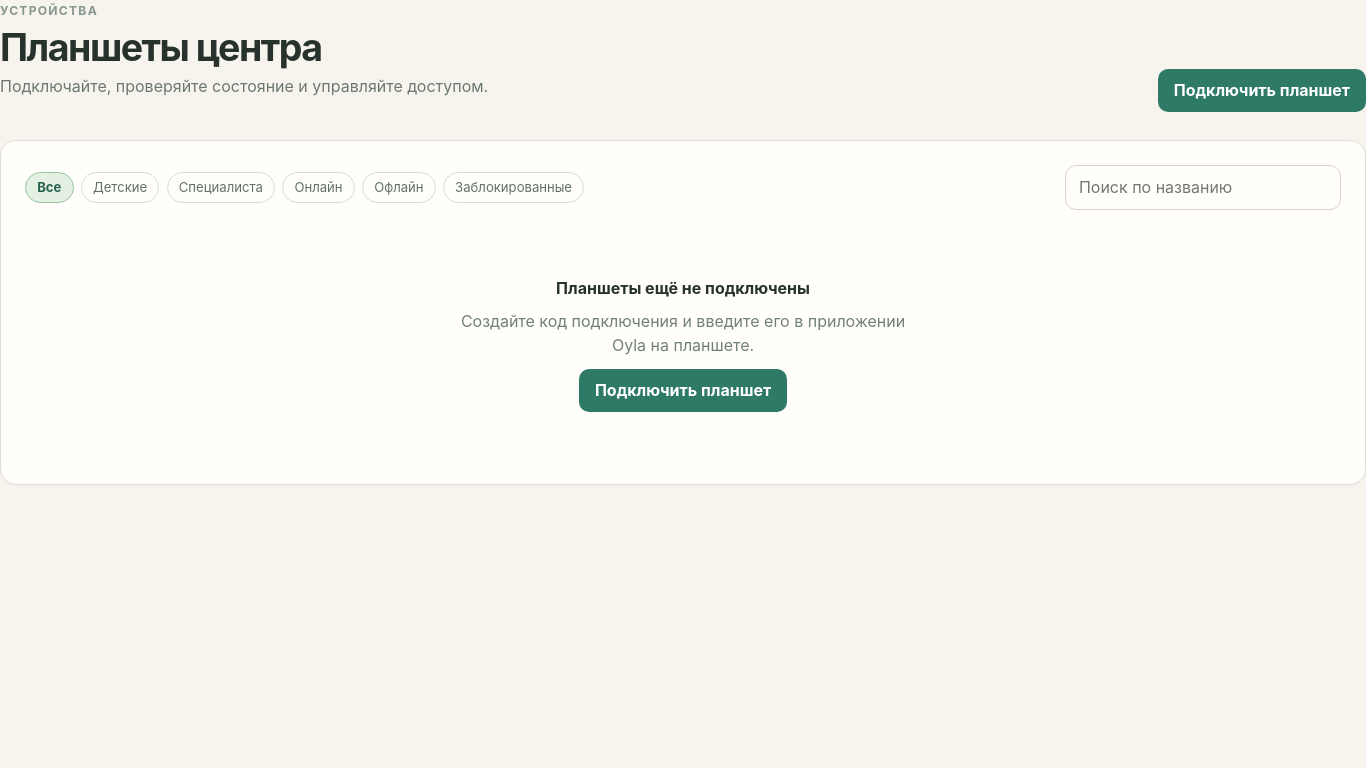
Test case: web device flow › shows an activation code after creation
Check: the text "Планшеты ещё не подключены" is shown, box x1=556 y1=278 x2=810 y2=298
Click the 1st button "Подключить планшет": (1262, 90) x1=1158 y1=69 x2=1365 y2=112
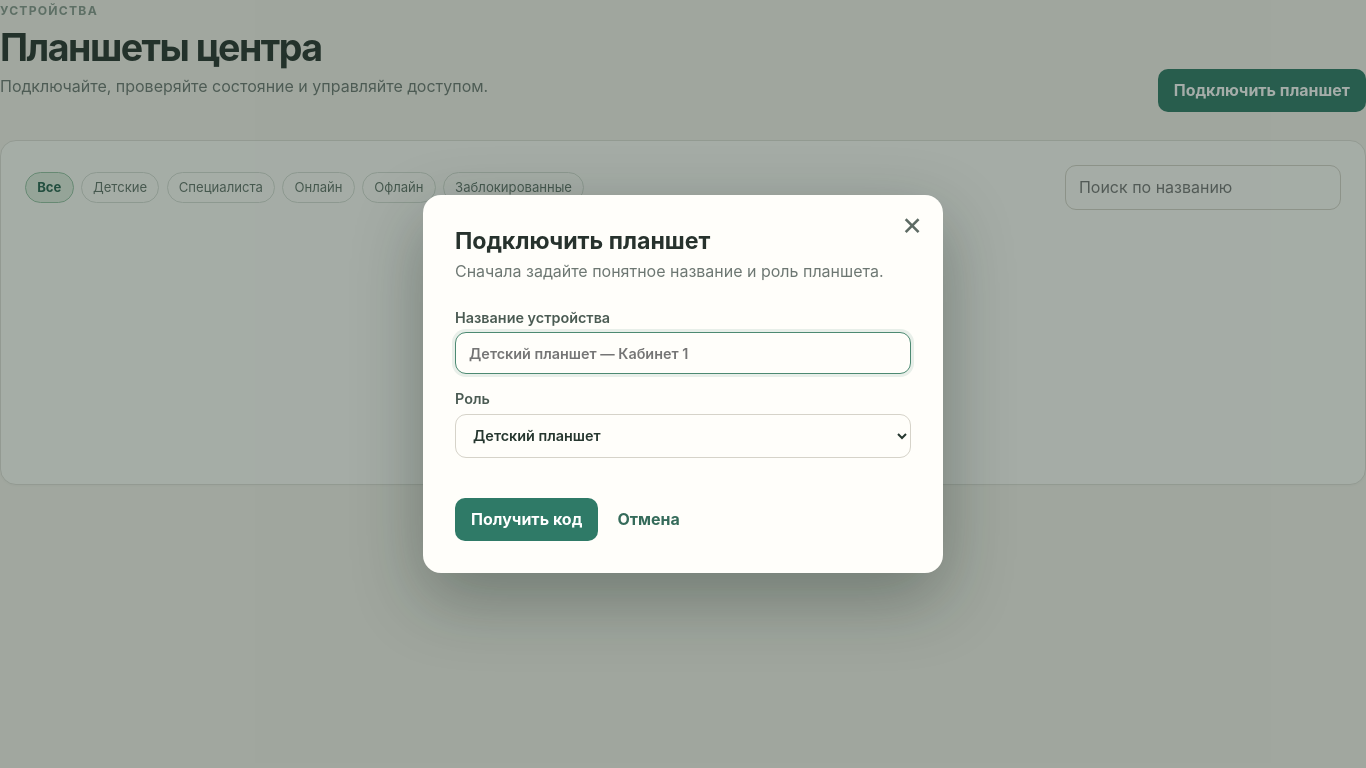
In the field labelled "Название устройства": (683, 353) x1=455 y1=332 x2=911 y2=374, type "Кабинет 1"
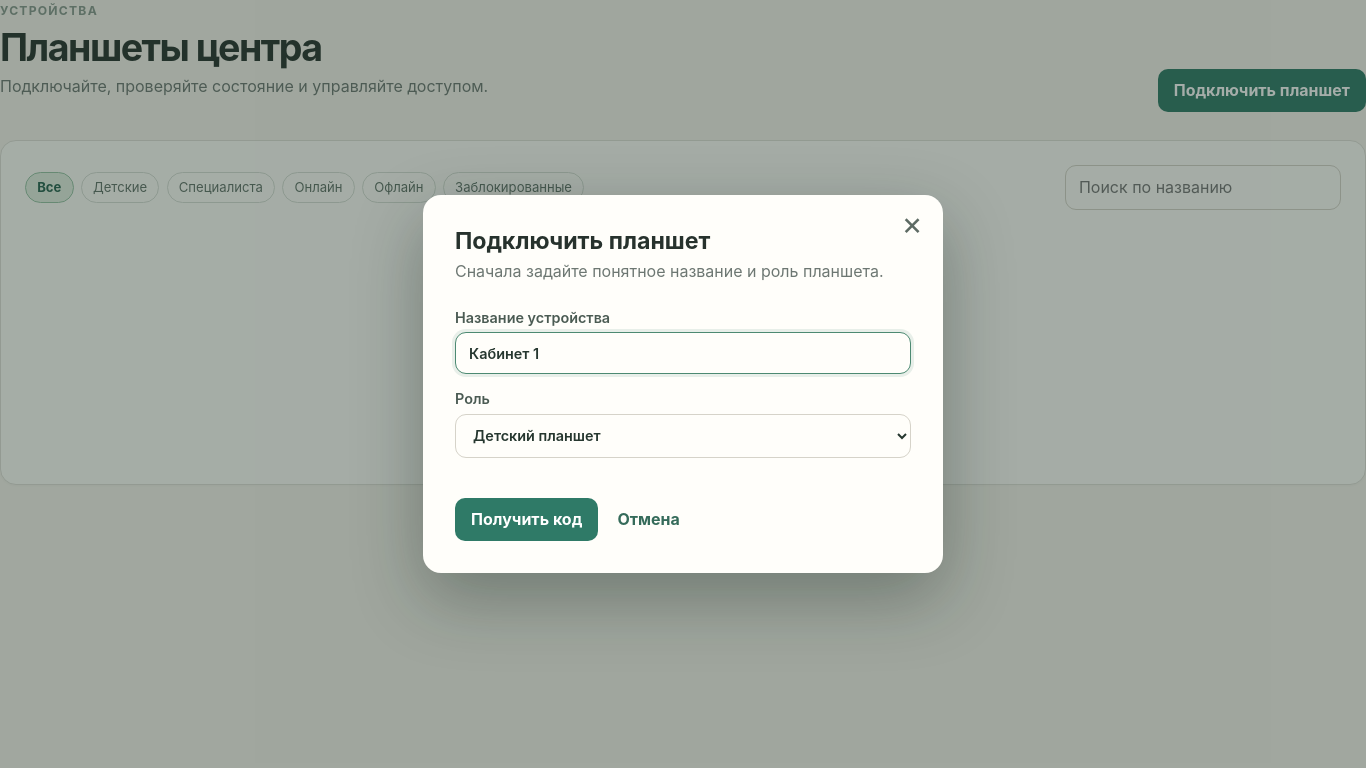
Click the button "Получить код": (527, 519) x1=455 y1=498 x2=598 y2=541
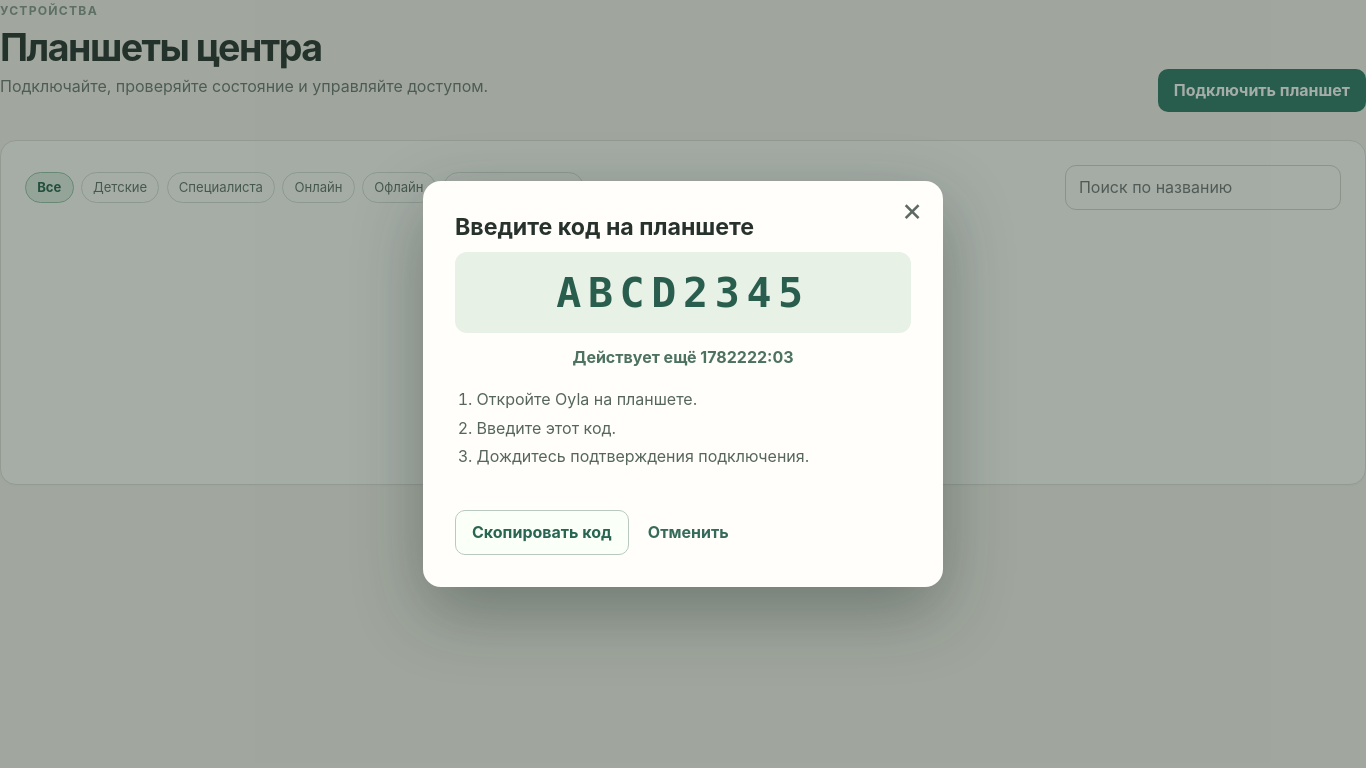
Check: the text "ABCD2345" is shown, box x1=455 y1=252 x2=911 y2=333
